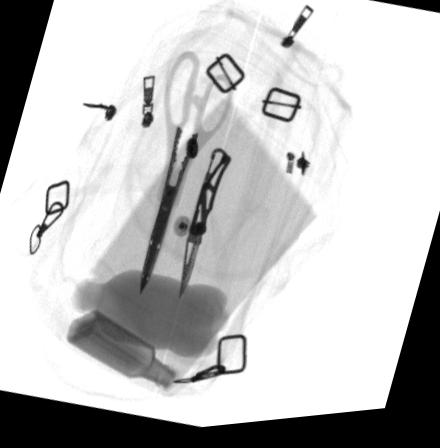Knife: (179, 152, 231, 302)
Scissors: (139, 56, 235, 298)
